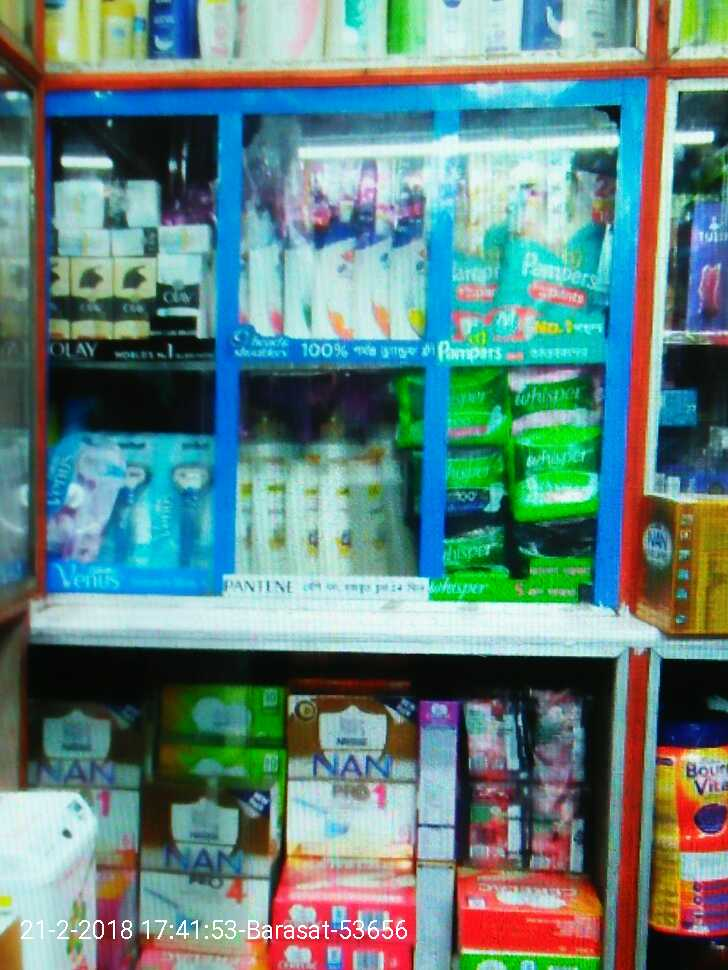venus: (150, 434, 212, 570), (49, 431, 108, 558), (108, 431, 150, 570)
